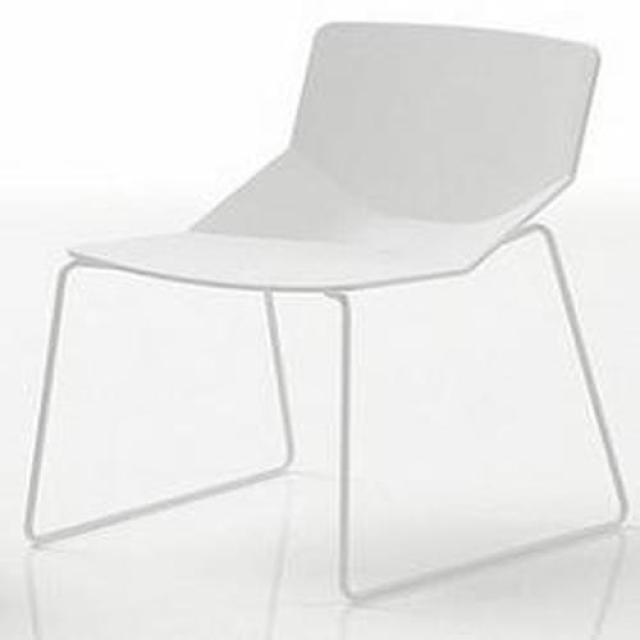chair: (24, 23, 627, 602)
